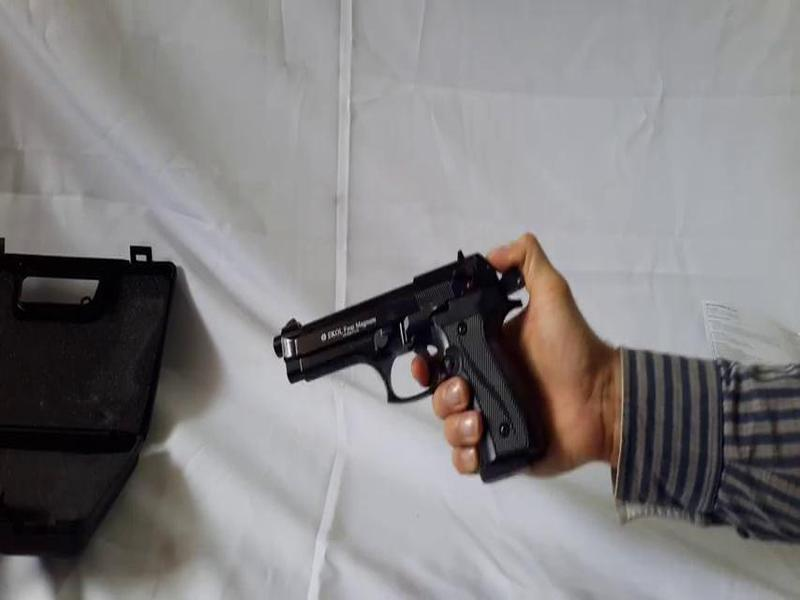Pistola: (255, 249, 534, 469)
